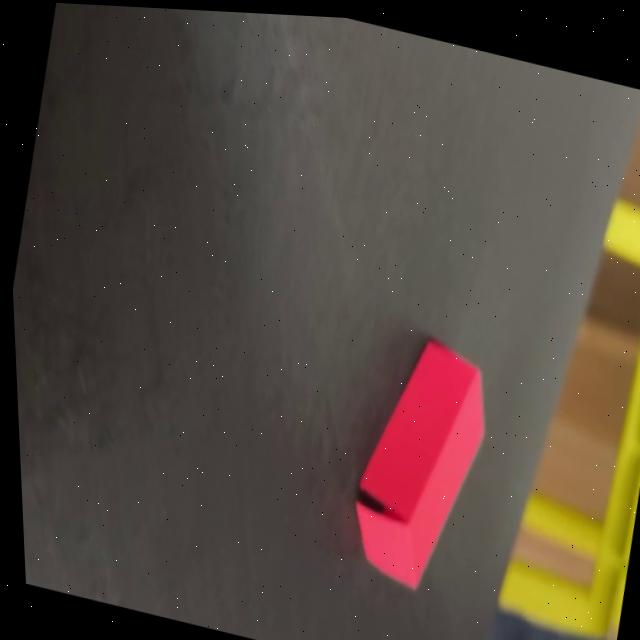red block: (333, 323, 510, 605)
